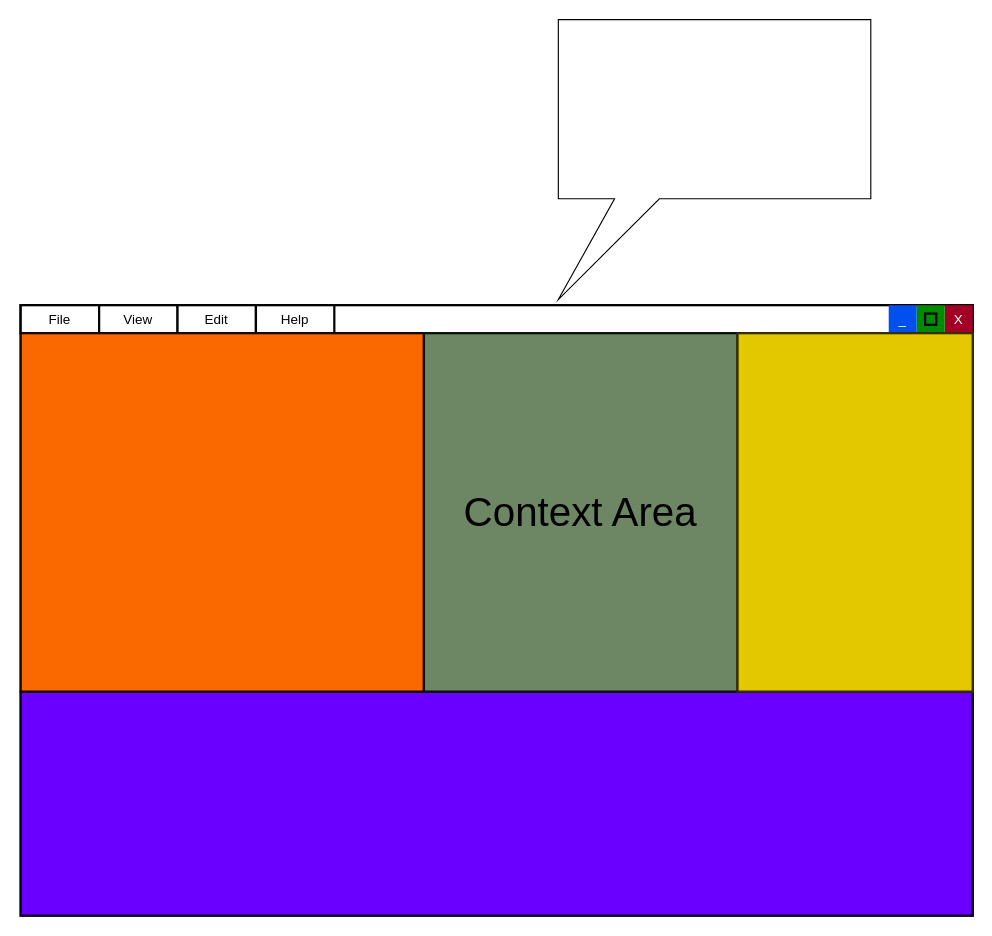
This 992x936 diagram has some shape labels left out. Each missing label, with the box of its shape:
Device List: (736, 332, 973, 692)
Layout not static, it can be rearranged and customized by the user.: (557, 18, 871, 300)
Preview Area: (19, 332, 424, 692)
Show Graph: (19, 690, 973, 916)
